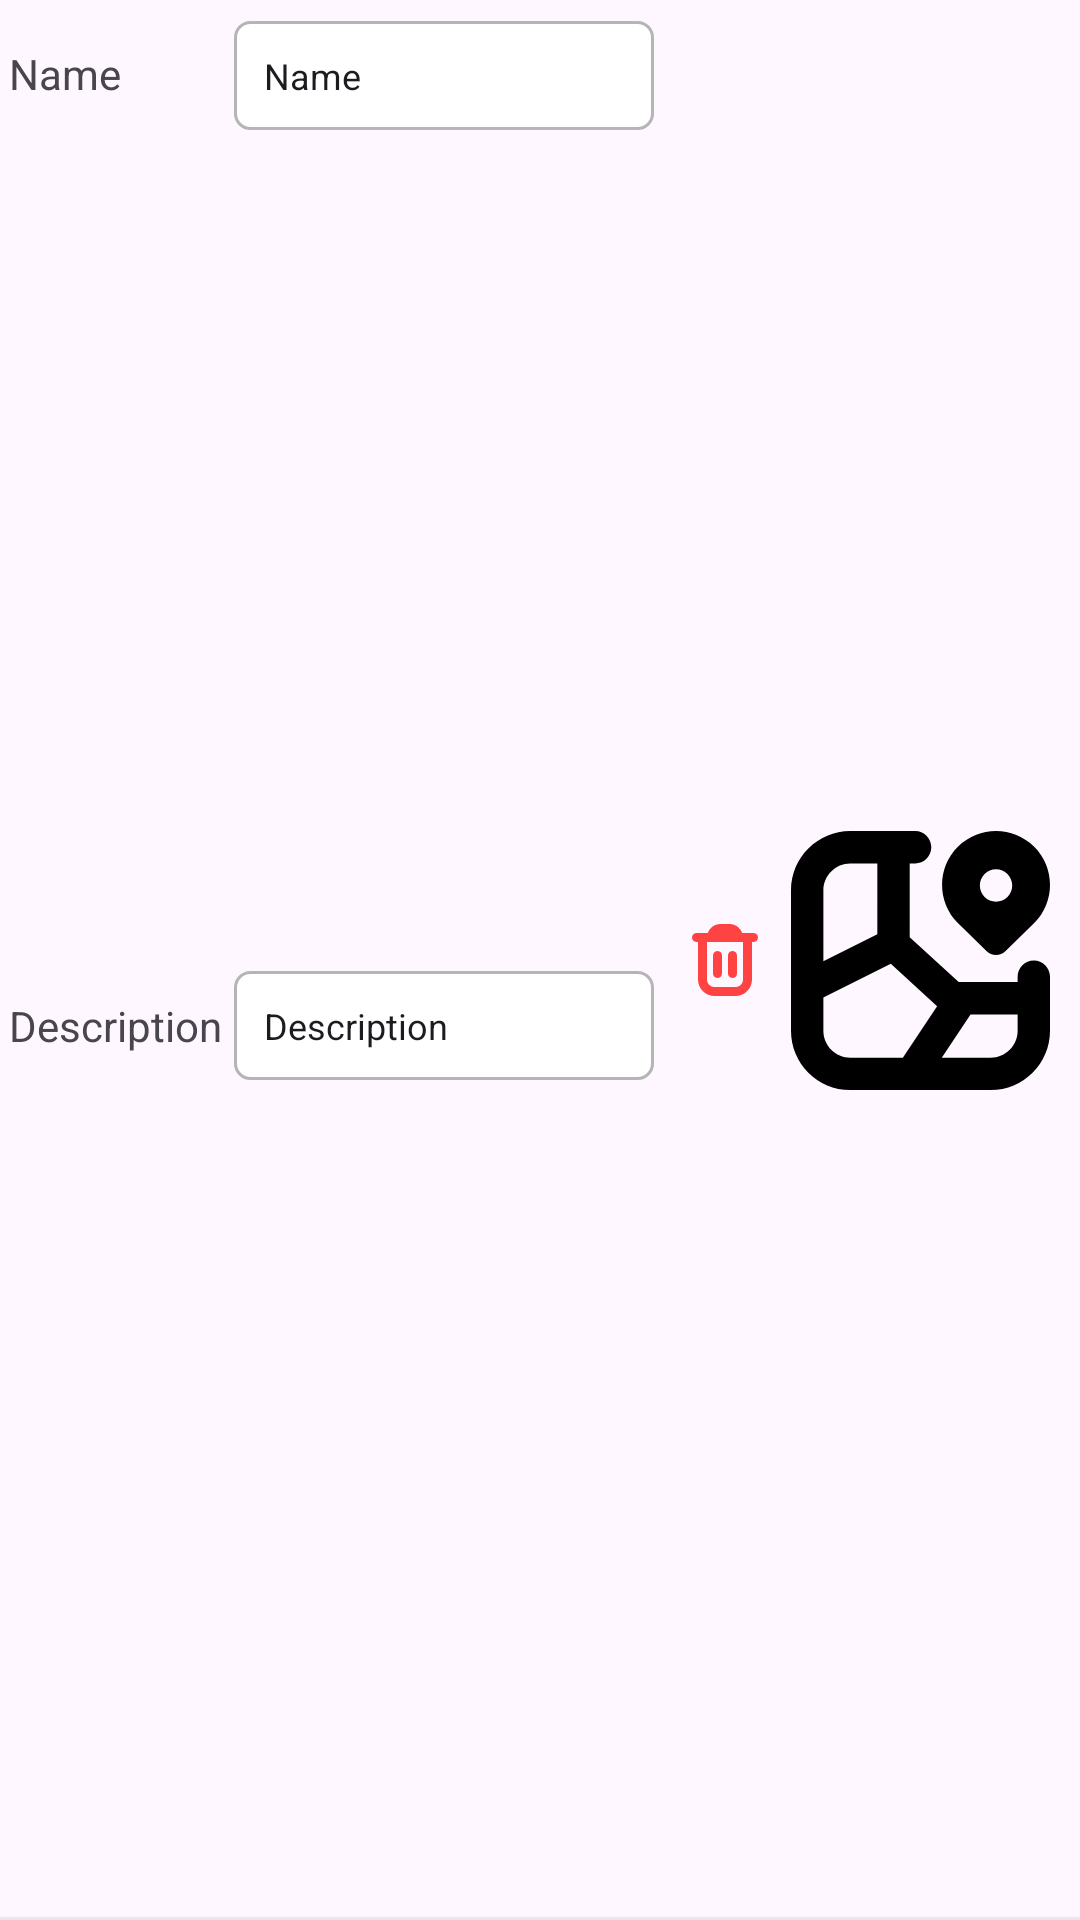

Icon click points for this 1080x1920 phone screenshot, format (x,y):
delete account: (725,960)
region: (920,960)
